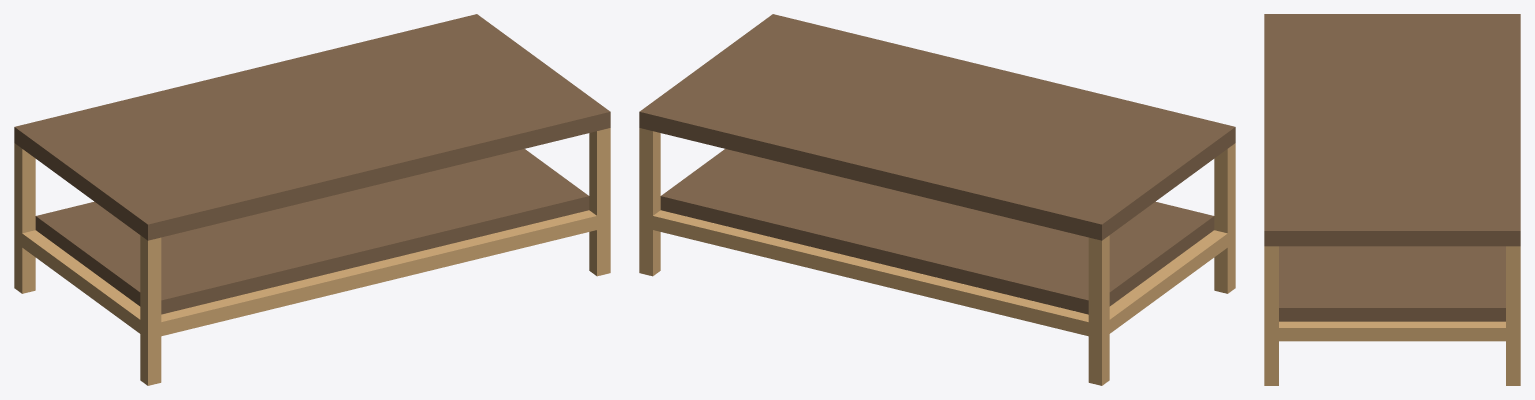
3 renders of one model, left to right at view 1: azimuth 30°, elevation 25°; view 2: azimuth 150°, elevation 25°; view 3: azimuth 270°, elevation 25°, orthographic. The views are drawn at different scales.
Visible parts, largest first — view 1: Tabletop, Shelf, object 3; view 2: Tabletop, Shelf, object 3; view 3: Tabletop, Shelf, object 3.
Boxes of the visible parts, x1,y1,x2,y2 form: Tabletop: (14, 14, 610, 240); Shelf: (35, 149, 589, 314); object 3: (14, 128, 610, 385); Tabletop: (639, 14, 1235, 240); Shelf: (660, 149, 1214, 314); object 3: (639, 128, 1235, 385); Tabletop: (1264, 14, 1520, 246); Shelf: (1279, 246, 1505, 321); object 3: (1264, 246, 1520, 385).
Bounding box in the file's own units: 1.2 × 0.4 × 0.6.
